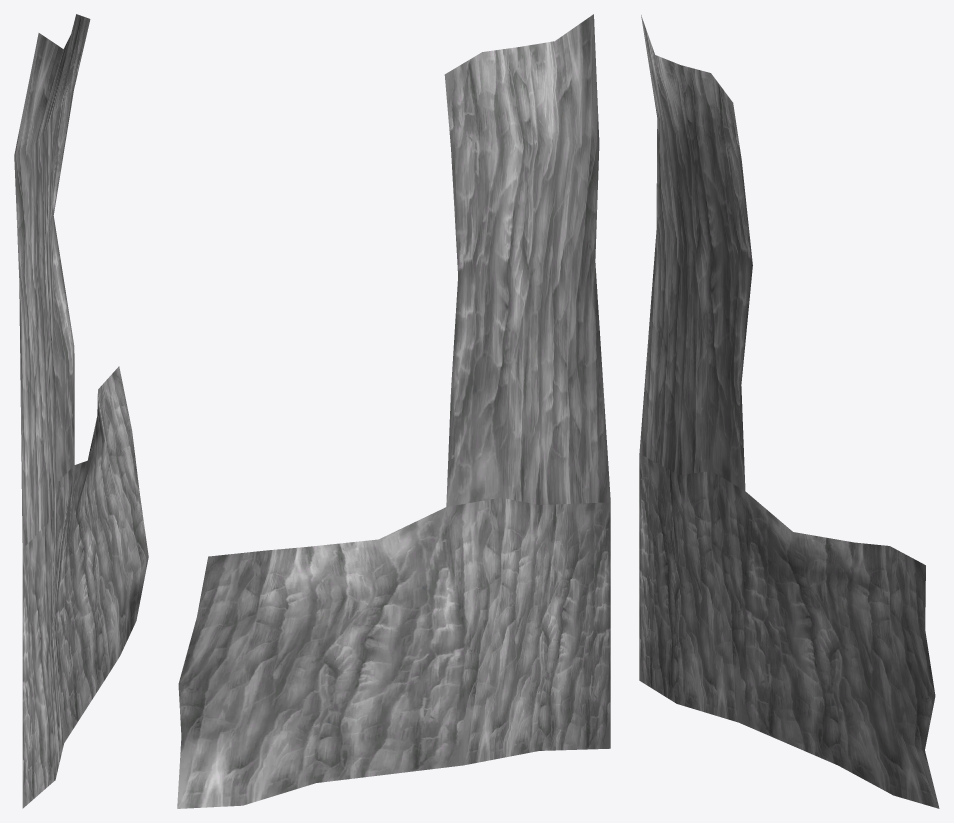
Rendered from SWORDLIGHT20_PS-AREA03_190.fbx.
3 renders of one model, left to right at view 1: azimuth 30°, elevation 25°; view 2: azimuth 150°, elevation 25°; view 3: azimuth 270°, elevation 25°, orthographic. The views are drawn at different scales.
Parts seen in each view (by area): view 1: SWORDLIGHT20_PS-AREA03_190; view 2: SWORDLIGHT20_PS-AREA03_190; view 3: SWORDLIGHT20_PS-AREA03_190.
Part boxes in pixels (x1,y1,x2,y2): SWORDLIGHT20_PS-AREA03_190: (14, 14, 148, 808); SWORDLIGHT20_PS-AREA03_190: (177, 14, 610, 808); SWORDLIGHT20_PS-AREA03_190: (639, 15, 939, 808).
Size of the model in its own units: 58799 by 152216 by 60413.
Materials: 1 (1 with a texture image).
